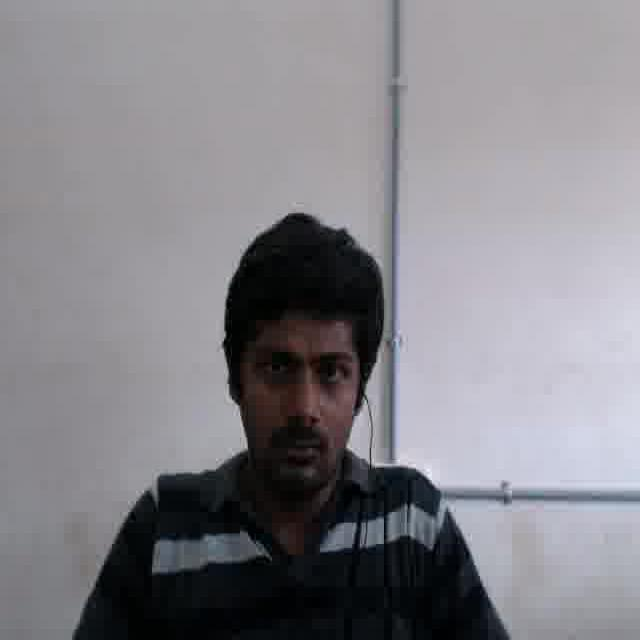Engaged: (244, 305, 356, 488)
